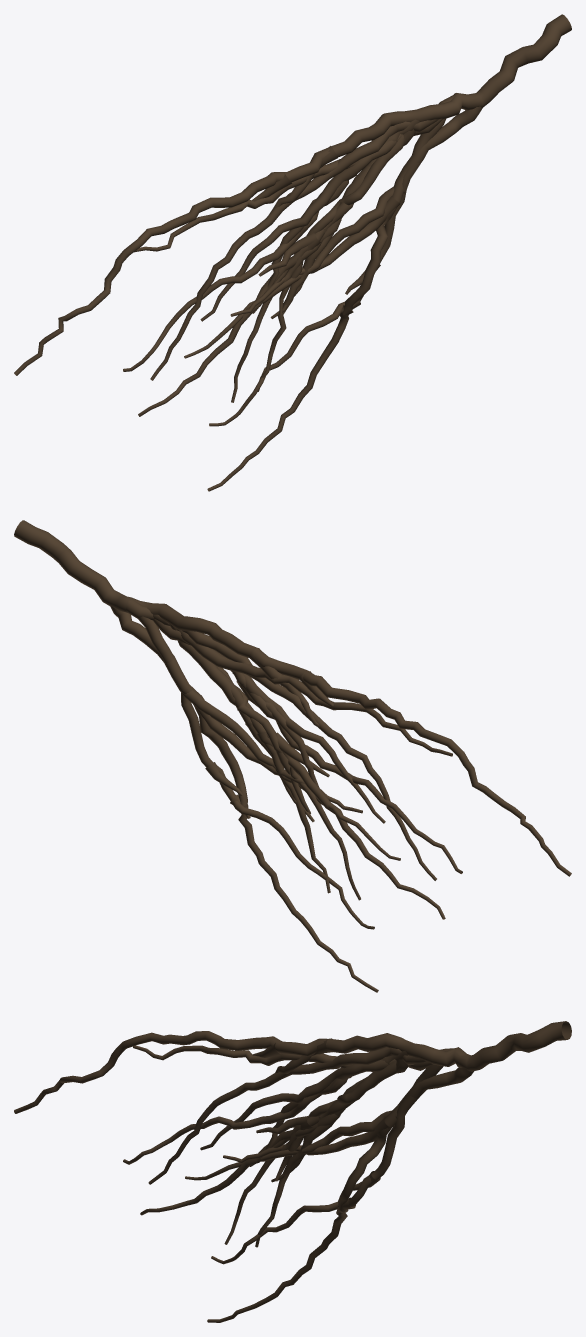
Rendered from branch 01.fbx.
The picture shows the model from 3 angles, top to bottom: view 1: azimuth 30°, elevation 25°; view 2: azimuth 150°, elevation 25°; view 3: azimuth 330°, elevation 25°; orthographic projection.
Visible parts, largest first — view 1: IVY_Curve; view 2: IVY_Curve; view 3: IVY_Curve.
Boxes of the visible parts, box(x1,y1,x2,y2) form: IVY_Curve: box(14, 14, 571, 491); IVY_Curve: box(14, 520, 571, 992); IVY_Curve: box(14, 1021, 571, 1322).
Size of the model in its own units: 271 by 181 by 14.42.
